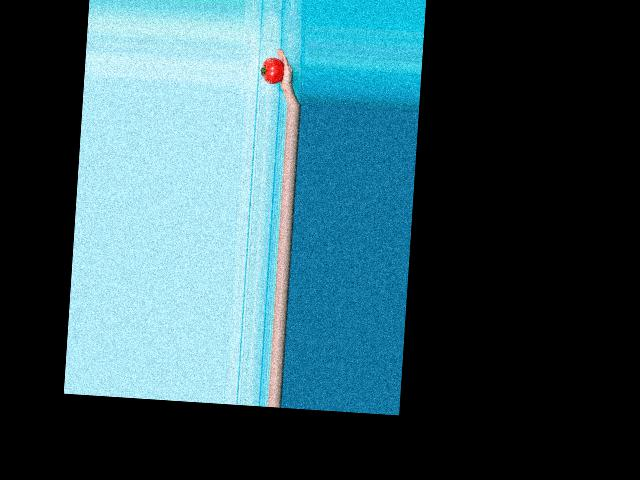tomato: (260, 56, 285, 83)
